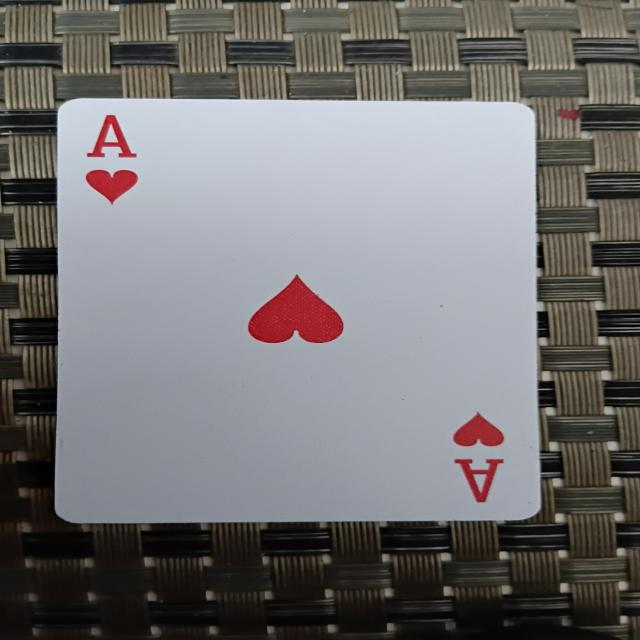AH: (67, 99, 538, 516)
